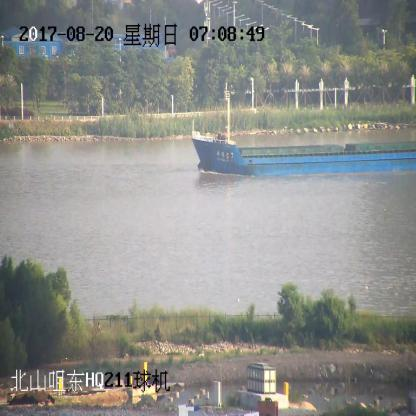Bulk Carrier: (191, 89, 415, 179)
